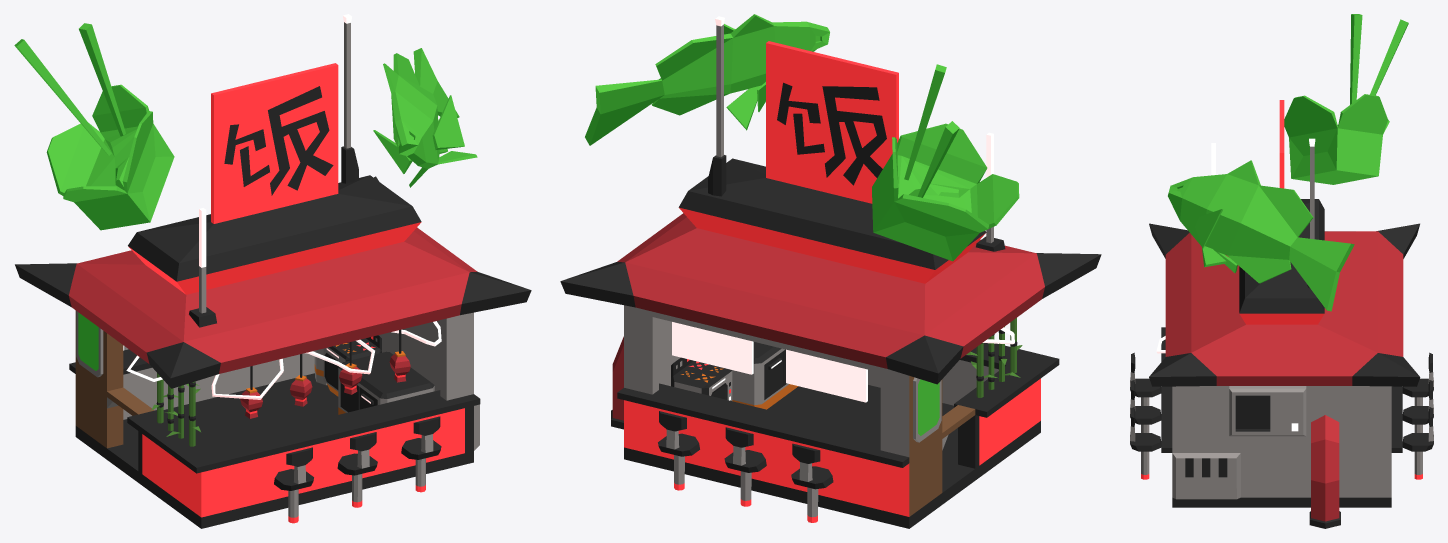
File: scifi_scifi-food-stall.fbx
3 renders of one model, left to right at view 1: azimuth 30°, elevation 25°; view 2: azimuth 150°, elevation 25°; view 3: azimuth 270°, elevation 25°, orthographic. The views are drawn at different scales.
Parts seen in each view (by area): view 1: scifi_scifi_food_stall; view 2: scifi_scifi_food_stall; view 3: scifi_scifi_food_stall.
Boxes of the visible parts, x1,y1,x2,y2 form: scifi_scifi_food_stall: (14, 14, 531, 528); scifi_scifi_food_stall: (560, 14, 1101, 528); scifi_scifi_food_stall: (1130, 14, 1433, 528).
Bounding box in the file's own units: 197 × 200 × 147.
